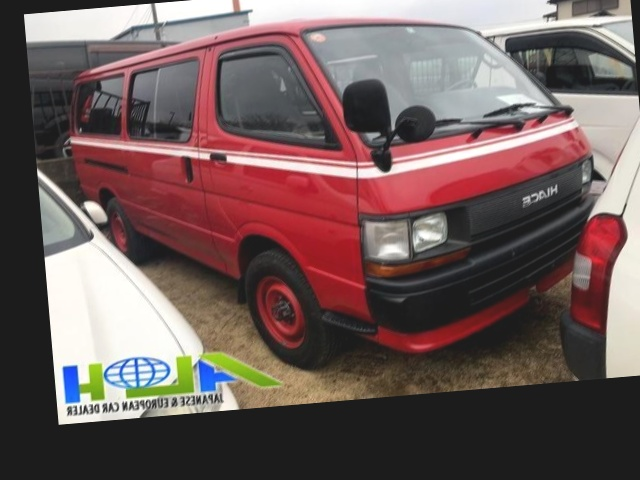van: (61, 1, 607, 367)
